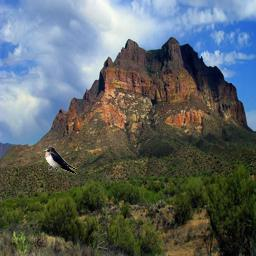Swallow: (43, 146, 77, 175)
